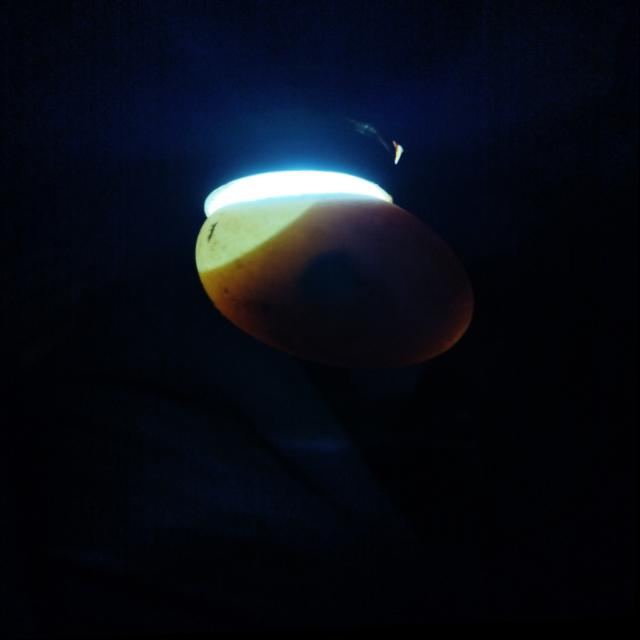Area Infectada: (230, 210, 473, 368)
